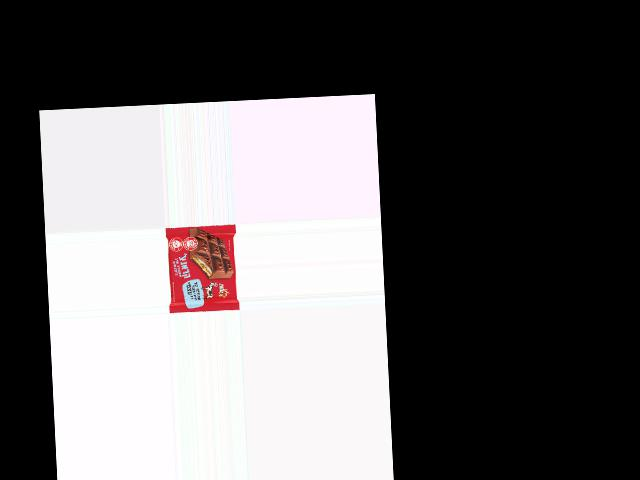chocolate: (164, 225, 238, 310)
